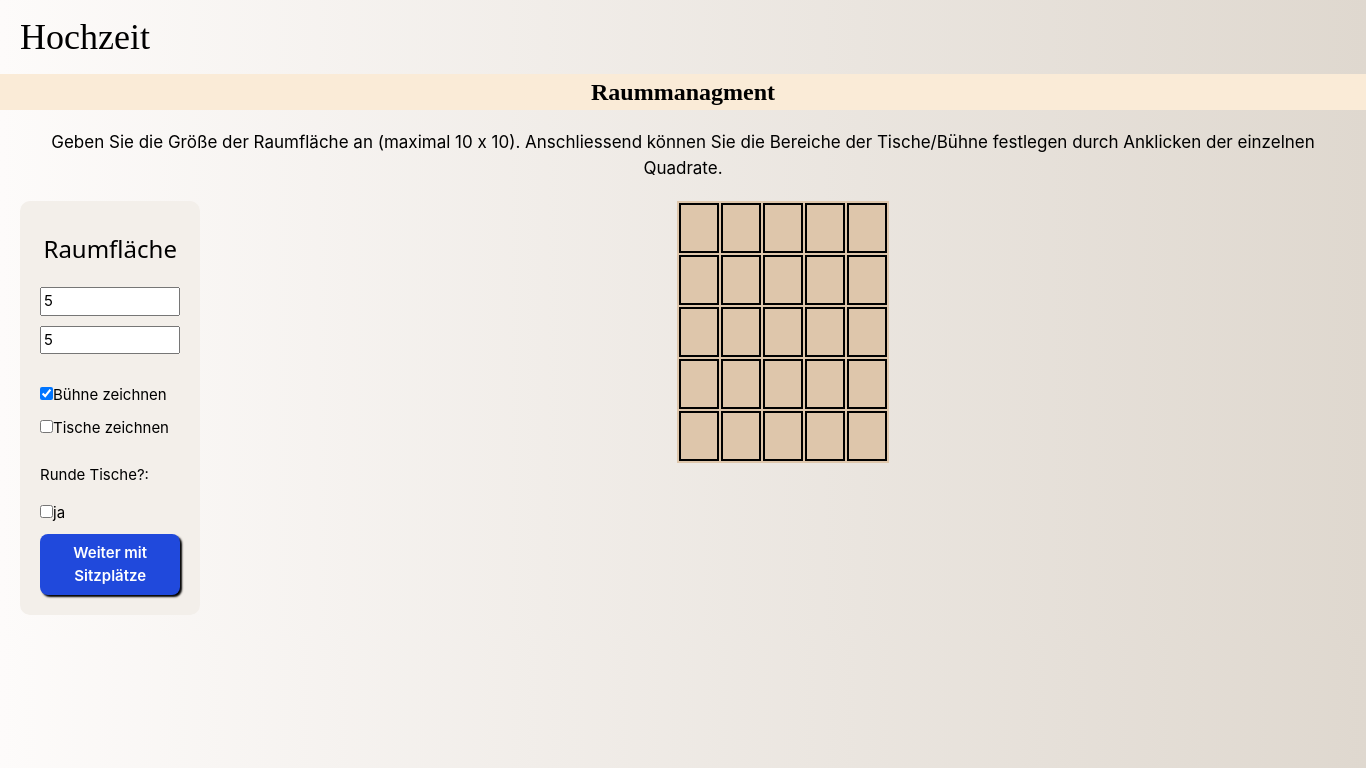
Test: size is limited to 10
Replace the text in the 1st number field with placeholder "Reihen" with "25": (110, 301) x1=40 y1=287 x2=180 y2=316
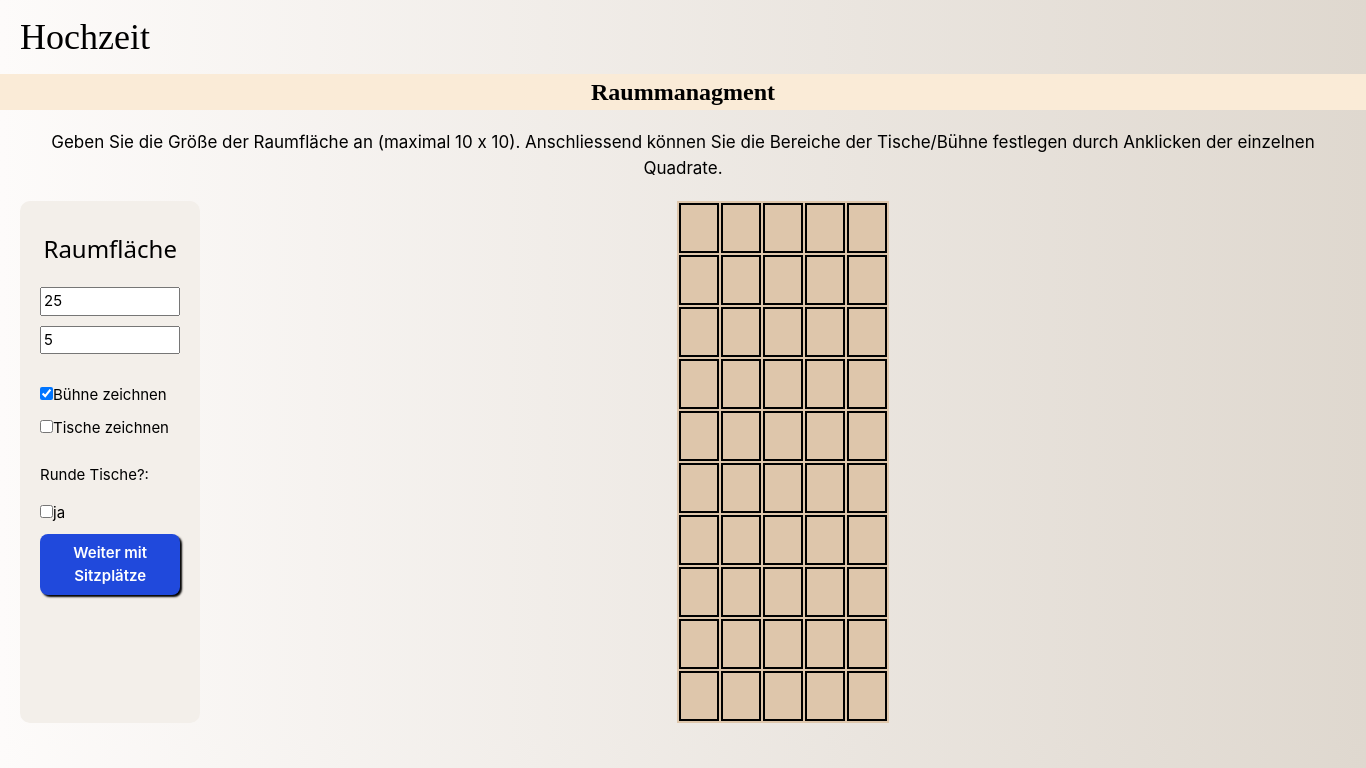
expect the number of rows is 10: met
